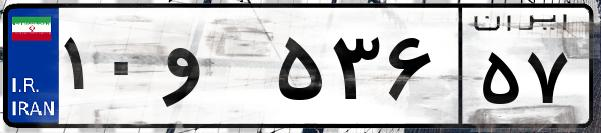0: (110, 28, 158, 98)
1: (57, 26, 110, 100)
3: (330, 28, 385, 110)
5: (270, 28, 330, 110), (475, 38, 525, 113)
6: (385, 28, 445, 110)
7: (525, 38, 570, 115)
و: (158, 20, 270, 120)
